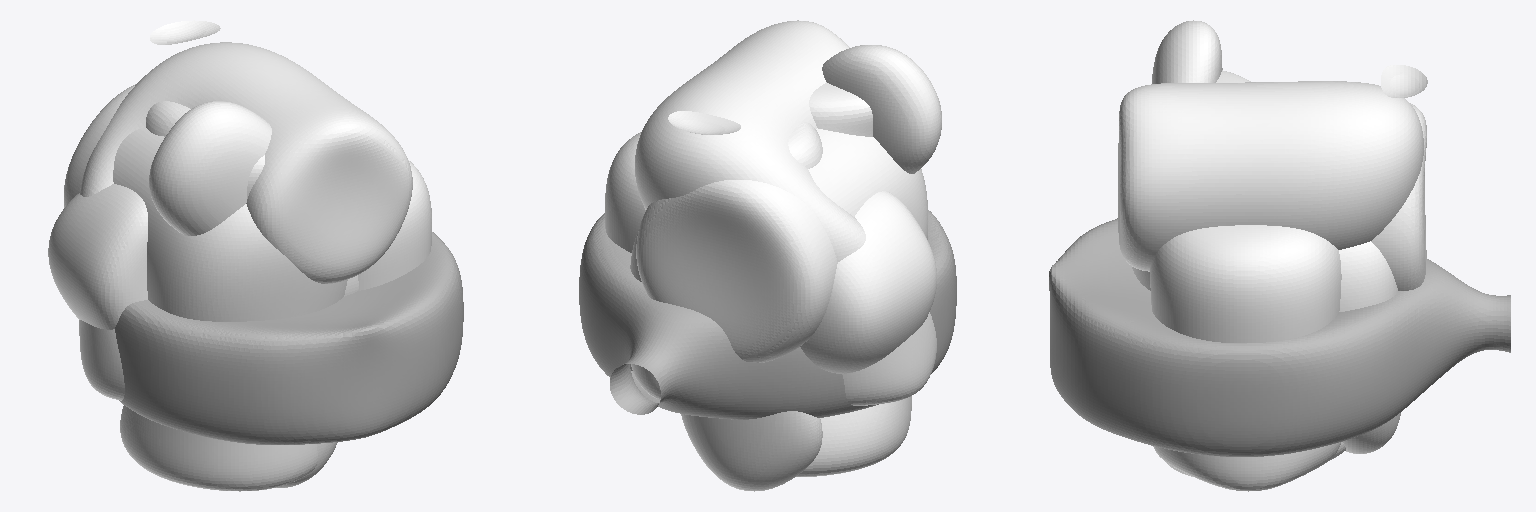
robot.urdf — UF_ROBOT:
<?xml version="1.0" ?>
<!-- =================================================================================== -->
<!-- |    This document was autogenerated by xacro from xarm_device.urdf.xacro         | -->
<!-- |    EDITING THIS FILE BY HAND IS NOT RECOMMENDED                                 | -->
<!-- =================================================================================== -->
<robot name="UF_ROBOT" xmlns:xacro="http://ros.org/wiki/xacro">
  <!-- Insert at the beginning of xarm_device_macro.xacro -->
  <material name="Black">
    <color rgba="0.0 0.0 0.0 1.0"/>
  </material>
  <material name="Red">
    <color rgba="0.8 0.0 0.0 1.0"/>
  </material>
  <material name="White">
    <color rgba="1.0 1.0 1.0 1.0"/>
  </material>
  <material name="Silver">
    <color rgba="0.753 0.753 0.753 1.0"/>
  </material>
  <link name="world"/>
  <joint name="world_joint" type="fixed">
    <parent link="world"/>
    <child link="link0"/>
    <origin rpy="0 0 0" xyz="0 0 0"/>
  </joint>
  <link name="link0">
    <inertial>
      <origin rpy="0 0 0" xyz="-0.021131 -0.0016302 0.056488"/>
      <mass value="0.88556"/>
      <inertia ixx="0.0030595" ixy="0.00012259" ixz="-0.00062705" iyy="0.0037783" iyz="0.00027023" izz="0.0020125"/>
    </inertial>
    <visual>
      <geometry>
        <mesh filename="package://xarm_description/meshes/xarm7/visual/link0.stl"/>
      </geometry>
      <origin rpy="0 0 0" xyz="0 0 0"/>
      <material name="White"/>
    </visual>
    <collision>
      <geometry>
        <mesh filename="package://xarm_description/meshes/xarm7/collision/link0.obj"/>
      </geometry>
      <origin rpy="0 0 0" xyz="0 0 0"/>
    </collision>
  </link>
  <link name="link1">
    <inertial>
      <origin rpy="0 0 0" xyz="-0.0002 0.02905 -0.01233"/>
      <mass value="2.382"/>
      <inertia ixx="0.0056905" ixy="-1.579e-05" ixz="5.125e-06" iyy="0.0049566" iyz="-0.000873378" izz="0.003316654"/>
    </inertial>
    <visual>
      <geometry>
        <mesh filename="package://xarm_description/meshes/xarm7/visual/link1.stl"/>
      </geometry>
      <origin rpy="0 0 0" xyz="0 0 0"/>
      <material name="White"/>
    </visual>
    <collision>
      <geometry>
        <mesh filename="package://xarm_description/meshes/xarm7/collision/link1.obj"/>
      </geometry>
      <origin rpy="0 0 0" xyz="0 0 0"/>
    </collision>
  </link>
  <joint name="joint1" type="revolute">
    <origin rpy="0 0 0" xyz="0 0 0.267"/>
    <parent link="link0"/>
    <child link="link1"/>
    <axis xyz="0 0 1"/>
    <limit effort="50" lower="-6.28318530718" upper="6.28318530718" velocity="3.14"/>
    <dynamics damping="10" friction="1"/>
  </joint>
  <link name="link2">
    <inertial>
      <origin rpy="0 0 0" xyz="0.00022 -0.12856 0.01735"/>
      <mass value="1.869"/>
      <inertia ixx="0.0095989" ixy="1.541e-06" ixz="5.56e-06" iyy="0.00382472" iyz="-0.00317156" izz="0.007565669"/>
    </inertial>
    <visual>
      <geometry>
        <mesh filename="package://xarm_description/meshes/xarm7/visual/link2.stl"/>
      </geometry>
      <origin rpy="0 0 0" xyz="0 0 0"/>
      <material name="White"/>
    </visual>
    <collision>
      <geometry>
        <mesh filename="package://xarm_description/meshes/xarm7/collision/link2.obj"/>
      </geometry>
      <origin rpy="0 0 0" xyz="0 0 0"/>
    </collision>
  </link>
  <joint name="joint2" type="revolute">
    <origin rpy="-1.5708 0 0" xyz="0 0 0"/>
    <parent link="link1"/>
    <child link="link2"/>
    <axis xyz="0 0 1"/>
    <limit effort="50" lower="-2.059" upper="2.0944" velocity="3.14"/>
    <dynamics damping="10" friction="1"/>
  </joint>
  <link name="link3">
    <inertial>
      <origin rpy="0 0 0" xyz="0.0466 -0.02463 -0.00768"/>
      <mass value="1.6383"/>
      <inertia ixx="0.00310955" ixy="0.00030837" ixz="-0.00058453" iyy="0.00264483" iyz="0.000338893" izz="0.0026624"/>
    </inertial>
    <visual>
      <geometry>
        <mesh filename="package://xarm_description/meshes/xarm7/visual/link3.stl"/>
      </geometry>
      <origin rpy="0 0 0" xyz="0 0 0"/>
      <material name="White"/>
    </visual>
    <collision>
      <geometry>
        <mesh filename="package://xarm_description/meshes/xarm7/collision/link3.obj"/>
      </geometry>
      <origin rpy="0 0 0" xyz="0 0 0"/>
    </collision>
  </link>
  <joint name="joint3" type="revolute">
    <origin rpy="1.5708 0 0" xyz="0 -0.293 0"/>
    <parent link="link2"/>
    <child link="link3"/>
    <axis xyz="0 0 1"/>
    <limit effort="30" lower="-6.28318530718" upper="6.28318530718" velocity="3.14"/>
    <dynamics damping="5" friction="1"/>
  </joint>
  <link name="link4">
    <inertial>
      <origin rpy="0 0 0" xyz="0.07047 -0.11575 0.012"/>
      <mass value="1.7269"/>
      <inertia ixx="0.005889" ixy="0.00137112" ixz="0.00088143" iyy="0.00359703" iyz="-0.001762155" izz="0.00543244"/>
    </inertial>
    <visual>
      <geometry>
        <mesh filename="package://xarm_description/meshes/xarm7/visual/link4.stl"/>
      </geometry>
      <origin rpy="0 0 0" xyz="0 0 0"/>
      <material name="White"/>
    </visual>
    <collision>
      <geometry>
        <mesh filename="package://xarm_description/meshes/xarm7/collision/link4.obj"/>
      </geometry>
      <origin rpy="0 0 0" xyz="0 0 0"/>
    </collision>
  </link>
  <joint name="joint4" type="revolute">
    <origin rpy="1.5708 0 0" xyz="0.0525 0 0"/>
    <parent link="link3"/>
    <child link="link4"/>
    <axis xyz="0 0 1"/>
    <limit effort="30" lower="-0.19198" upper="3.927" velocity="3.14"/>
    <dynamics damping="5" friction="1"/>
  </joint>
  <link name="link5">
    <inertial>
      <origin rpy="0 0 0" xyz="-0.00032 0.01604 -0.026"/>
      <mass value="1.3203"/>
      <inertia ixx="0.00534665" ixy="1.5117e-05" ixz="-3.69e-07" iyy="0.0049779" iyz="-0.00022132" izz="0.0013624"/>
    </inertial>
    <visual>
      <geometry>
        <mesh filename="package://xarm_description/meshes/xarm7/visual/link5.stl"/>
      </geometry>
      <origin rpy="0 0 0" xyz="0 0 0"/>
      <material name="White"/>
    </visual>
    <collision>
      <geometry>
        <mesh filename="package://xarm_description/meshes/xarm7/collision/link5.obj"/>
      </geometry>
      <origin rpy="0 0 0" xyz="0 0 0"/>
    </collision>
  </link>
  <joint name="joint5" type="revolute">
    <origin rpy="1.5708 0 0" xyz="0.0775 -0.3425 0"/>
    <parent link="link4"/>
    <child link="link5"/>
    <axis xyz="0 0 1"/>
    <limit effort="30" lower="-6.28318530718" upper="6.28318530718" velocity="3.14"/>
    <dynamics damping="5" friction="1"/>
  </joint>
  <link name="link6">
    <inertial>
      <origin rpy="0 0 0" xyz="0.06469 0.03278 0.02141"/>
      <mass value="1.325"/>
      <inertia ixx="0.0014745" ixy="-0.000488" ixz="0.0002953" iyy="0.0019037" iyz="0.00014749" izz="0.0023652"/>
    </inertial>
    <visual>
      <geometry>
        <mesh filename="package://xarm_description/meshes/xarm7/visual/link6.stl"/>
      </geometry>
      <origin rpy="0 0 0" xyz="0 0 0"/>
      <material name="White"/>
    </visual>
    <collision>
      <geometry>
        <mesh filename="package://xarm_description/meshes/xarm7/collision/link6.obj"/>
      </geometry>
      <origin rpy="0 0 0" xyz="0 0 0"/>
    </collision>
  </link>
  <joint name="joint6" type="revolute">
    <origin rpy="1.5708 0 0" xyz="0 0 0"/>
    <parent link="link5"/>
    <child link="link6"/>
    <axis xyz="0 0 1"/>
    <limit effort="20" lower="-1.69297" upper="3.14159265359" velocity="3.14"/>
    <dynamics damping="2" friction="1"/>
  </joint>
  <link name="link7">
    <inertial>
      <origin rpy="0 0 0" xyz="0 -0.00677 -0.01098"/>
      <mass value="0.17"/>
      <inertia ixx="9.3e-05" ixy="-0.0" ixz="-0.0" iyy="5.87e-05" iyz="-3.6e-06" izz="0.000132"/>
    </inertial>
    <visual>
      <geometry>
        <mesh filename="package://xarm_description/meshes/xarm7/visual/link7.stl"/>
      </geometry>
      <origin rpy="0 0 0" xyz="0 0 0"/>
      <material name="Silver"/>
    </visual>
    <collision>
      <geometry>
        <mesh filename="package://xarm_description/meshes/xarm7/collision/link7.obj"/>
      </geometry>
      <origin rpy="0 0 0" xyz="0 0 0"/>
    </collision>
  </link>
  <joint name="joint7" type="revolute">
    <origin rpy="-1.5708 0 0" xyz="0.076 0.097 0"/>
    <parent link="link6"/>
    <child link="link7"/>
    <axis xyz="0 0 1"/>
    <limit effort="20" lower="-6.28318530718" upper="6.28318530718" velocity="3.14"/>
    <dynamics damping="2" friction="1"/>
  </joint>
  <link name="link_eef"/>
  <joint name="joint_eef" type="fixed">
    <origin rpy="0 0 0" xyz="0 0 0"/>
    <parent link="link7"/>
    <child link="link_eef"/>
  </joint>
  <!-- <link name="${prefix}link_eef" />
    <joint name="${prefix}joint_eef" type="fixed">
      <origin xyz="0 0 0" rpy="0 0 0" />
      <parent link="${prefix}link7" />
      <child link="${prefix}link_eef" />
    </joint> -->
  <transmission name="tran1">
    <type>transmission_interface/SimpleTransmission</type>
    <joint name="joint1">
      <hardwareInterface>hardware_interface/PositionJointInterface</hardwareInterface>
    </joint>
    <actuator name="motor1">
      <hardwareInterface>hardware_interface/PositionJointInterface</hardwareInterface>
      <mechanicalReduction>100</mechanicalReduction>
    </actuator>
  </transmission>
  <transmission name="tran2">
    <type>transmission_interface/SimpleTransmission</type>
    <joint name="joint2">
      <hardwareInterface>hardware_interface/PositionJointInterface</hardwareInterface>
    </joint>
    <actuator name="motor2">
      <hardwareInterface>hardware_interface/PositionJointInterface</hardwareInterface>
      <mechanicalReduction>100</mechanicalReduction>
    </actuator>
  </transmission>
  <transmission name="tran3">
    <type>transmission_interface/SimpleTransmission</type>
    <joint name="joint3">
      <hardwareInterface>hardware_interface/PositionJointInterface</hardwareInterface>
    </joint>
    <actuator name="motor3">
      <hardwareInterface>hardware_interface/PositionJointInterface</hardwareInterface>
      <mechanicalReduction>100</mechanicalReduction>
    </actuator>
  </transmission>
  <transmission name="tran4">
    <type>transmission_interface/SimpleTransmission</type>
    <joint name="joint4">
      <hardwareInterface>hardware_interface/PositionJointInterface</hardwareInterface>
    </joint>
    <actuator name="motor4">
      <hardwareInterface>hardware_interface/PositionJointInterface</hardwareInterface>
      <mechanicalReduction>100</mechanicalReduction>
    </actuator>
  </transmission>
  <transmission name="tran5">
    <type>transmission_interface/SimpleTransmission</type>
    <joint name="joint5">
      <hardwareInterface>hardware_interface/PositionJointInterface</hardwareInterface>
    </joint>
    <actuator name="motor5">
      <hardwareInterface>hardware_interface/PositionJointInterface</hardwareInterface>
      <mechanicalReduction>100</mechanicalReduction>
    </actuator>
  </transmission>
  <transmission name="tran6">
    <type>transmission_interface/SimpleTransmission</type>
    <joint name="joint6">
      <hardwareInterface>hardware_interface/PositionJointInterface</hardwareInterface>
    </joint>
    <actuator name="motor6">
      <hardwareInterface>hardware_interface/PositionJointInterface</hardwareInterface>
      <mechanicalReduction>100</mechanicalReduction>
    </actuator>
  </transmission>
  <transmission name="tran7">
    <type>transmission_interface/SimpleTransmission</type>
    <joint name="joint7">
      <hardwareInterface>hardware_interface/PositionJointInterface</hardwareInterface>
    </joint>
    <actuator name="motor7">
      <hardwareInterface>hardware_interface/PositionJointInterface</hardwareInterface>
      <mechanicalReduction>100</mechanicalReduction>
    </actuator>
  </transmission>
  <gazebo reference="link0">
    <selfCollide>true</selfCollide>
  </gazebo>
  <gazebo reference="link1">
    <selfCollide>true</selfCollide>
  </gazebo>
  <gazebo reference="link2">
    <selfCollide>true</selfCollide>
  </gazebo>
  <gazebo reference="link3">
    <selfCollide>true</selfCollide>
  </gazebo>
  <gazebo reference="link4">
    <selfCollide>true</selfCollide>
  </gazebo>
  <gazebo reference="link5">
    <selfCollide>true</selfCollide>
  </gazebo>
  <gazebo reference="link6">
    <selfCollide>true</selfCollide>
  </gazebo>
  <gazebo reference="link7">
    <selfCollide>true</selfCollide>
  </gazebo>

  <gazebo>
    <plugin filename="libgazebo_ros_control.so" name="gazebo_ros_control">
      <robotNamespace>/xarm</robotNamespace>
      <!-- <controlPeriod>0.0001</controlPeriod> -->
      <robotSimType>gazebo_ros_control/DefaultRobotHWSim</robotSimType>
      <legacyModeNS>true</legacyModeNS>
      <!-- <preserveWorldVelocity>true</preserveWorldVelocity> -->
    </plugin>
  </gazebo>
  <!-- Insert at the end of xarm_device_macro.xacro -->
</robot>

--- Facts derived from the render (not from the file) ---
3 views of the same robot in one strip: view 1: azimuth 30°, elevation 25°; view 2: azimuth 150°, elevation 25°; view 3: azimuth 270°, elevation 25° (orthographic).
Robot: UF_ROBOT — 10 links, 9 joints (7 revolute, 2 fixed); root link world; default pose: all joints at 0.
Visible links, largest first — view 1: link7, link3, link1, link6, link4, link5; view 2: link1, link3, link7, link6, link2, link4, link5; view 3: link7, link3, link6, link4, link1, link5, link2.
Link boxes in pixels (x1,y1,x2,y2): link7: (115, 232, 463, 444); link3: (79, 42, 412, 400); link1: (64, 84, 347, 491); link6: (48, 160, 431, 329); link4: (149, 101, 358, 296); link5: (146, 20, 337, 487); link1: (636, 128, 927, 476); link3: (635, 20, 936, 405); link7: (579, 210, 956, 419); link6: (605, 132, 936, 373); link2: (681, 82, 872, 491); link4: (630, 45, 941, 399); link5: (668, 111, 822, 168); link7: (1049, 218, 1510, 456); link3: (1118, 81, 1423, 271); link6: (1150, 225, 1341, 491); link4: (1152, 20, 1397, 311); link1: (1132, 103, 1426, 460); link5: (1167, 65, 1427, 476); link2: (1216, 70, 1400, 453).
Size in the robot's own frame: 1.7 by 1.95 by 1.94 metres.
7 mesh visuals loaded from 8 distinct referenced files (7 binary STL); not drawn: 1 (reference not matched to a file when rendering).
